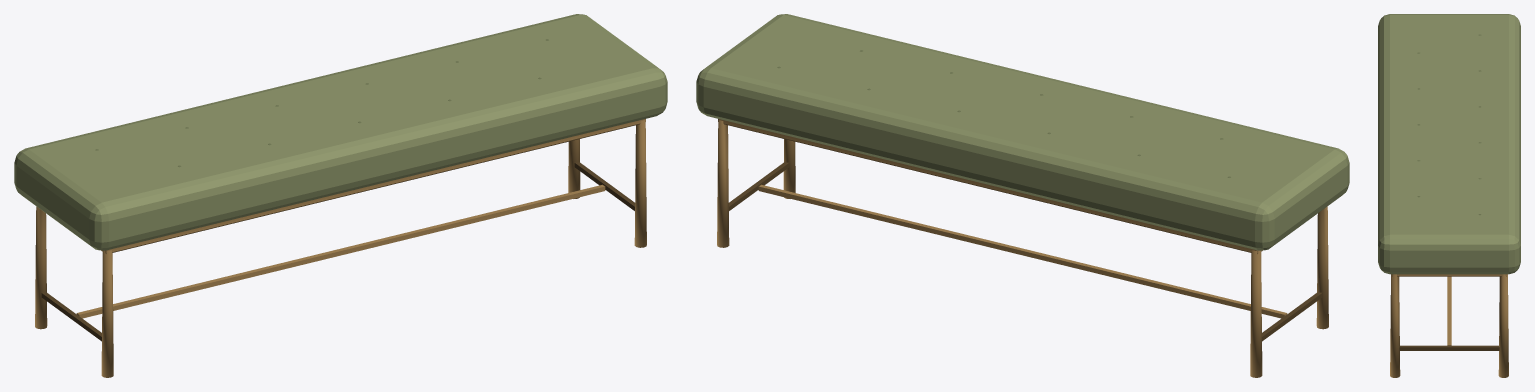
Rendered from benchBedEnd.glb.
3 views of the same model, side by side, from view 1: azimuth 30°, elevation 25°; view 2: azimuth 150°, elevation 25°; view 3: azimuth 270°, elevation 25° (orthographic). The views are drawn at different scales.
Parts seen in each view (by area): view 1: benchBedEnd; view 2: benchBedEnd; view 3: benchBedEnd.
Part boxes in pixels (bbox=[...]): benchBedEnd: bbox=[14, 14, 667, 377]; benchBedEnd: bbox=[696, 14, 1349, 377]; benchBedEnd: bbox=[1378, 14, 1520, 377].
Bounding box in the file's own units: 1.6 × 0.4708 × 0.42.
